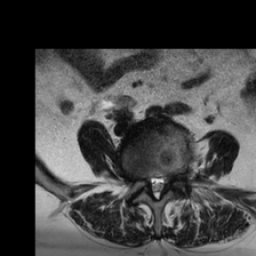CCS_normal: (152, 170, 159, 205)
LFS_severe_stenosis: (167, 165, 175, 189)
LLS_stenosis: (159, 171, 167, 195)
RFS_severe_stenosis: (138, 167, 146, 189)
RLS_severe_stenosis: (146, 170, 152, 194)
